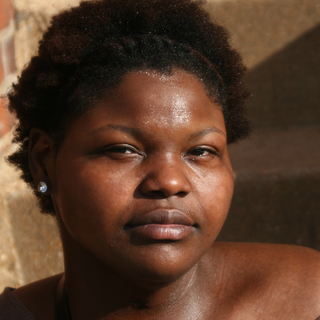eye: (94, 139, 144, 162), (179, 140, 222, 165)
